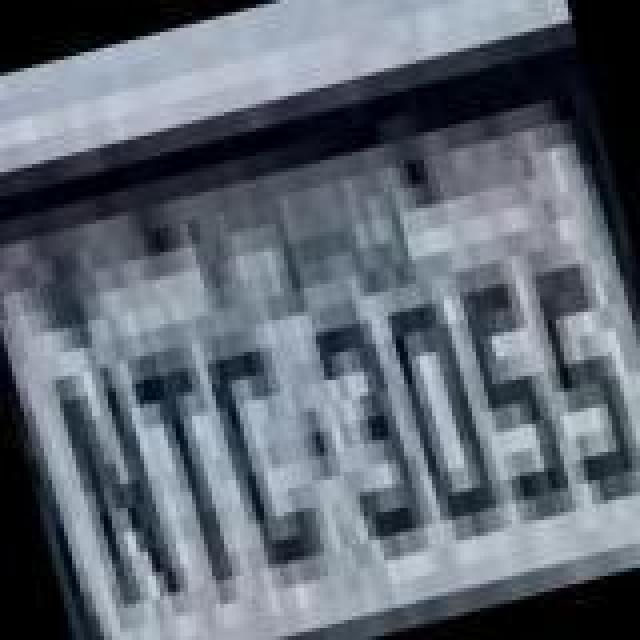3: (300, 296, 436, 552)
5: (446, 260, 578, 532), (520, 252, 640, 516)
C: (204, 334, 332, 578)
N: (48, 348, 192, 628)
O: (374, 282, 506, 542)
T: (128, 344, 256, 608)
